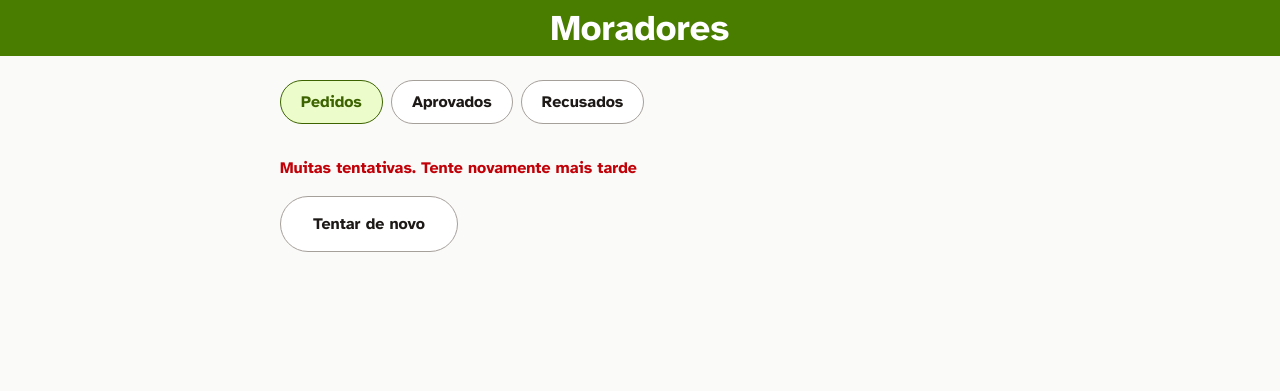
Scenario: Residents › shows why the requests did not load and tries again
Expected: the message reads "Muitas tentativas. Tente novamente mais tarde", [280, 158, 637, 178]
Click the button "Tentar de novo": (369, 224) [280, 196, 458, 252]
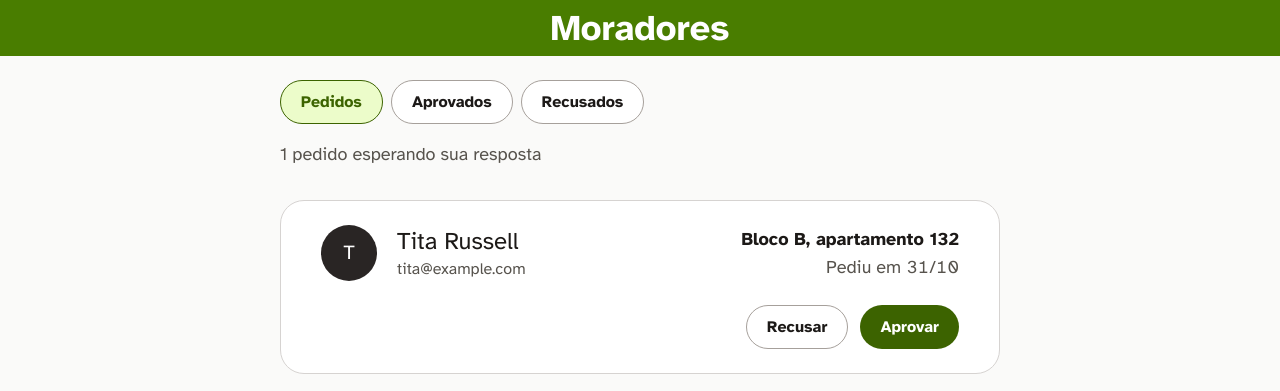
Expected: the message "Muitas tentativas. Tente novamente mais tarde" is gone
Expected: the button "Tentar de novo" is gone
